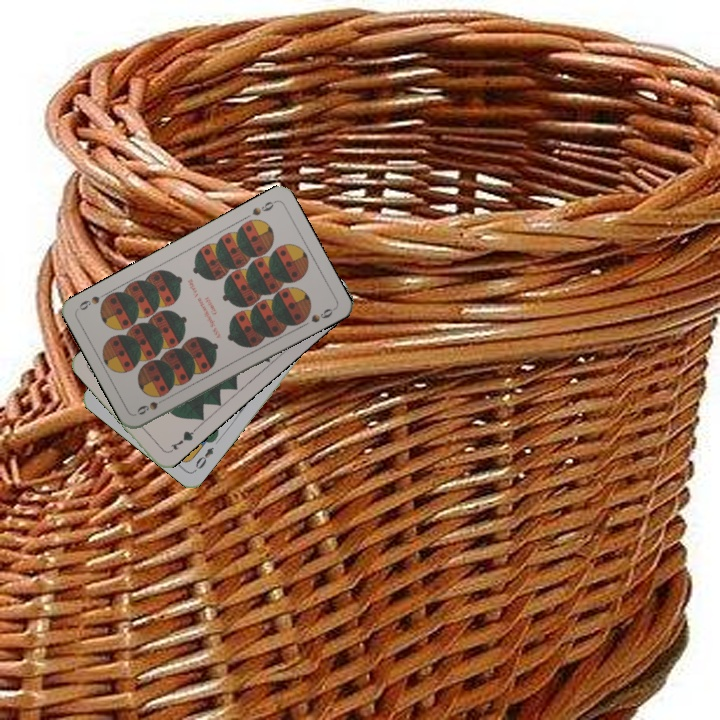EO: (190, 443, 216, 474)
G7: (164, 425, 198, 455)
S9: (133, 393, 171, 418), (248, 197, 279, 218)
